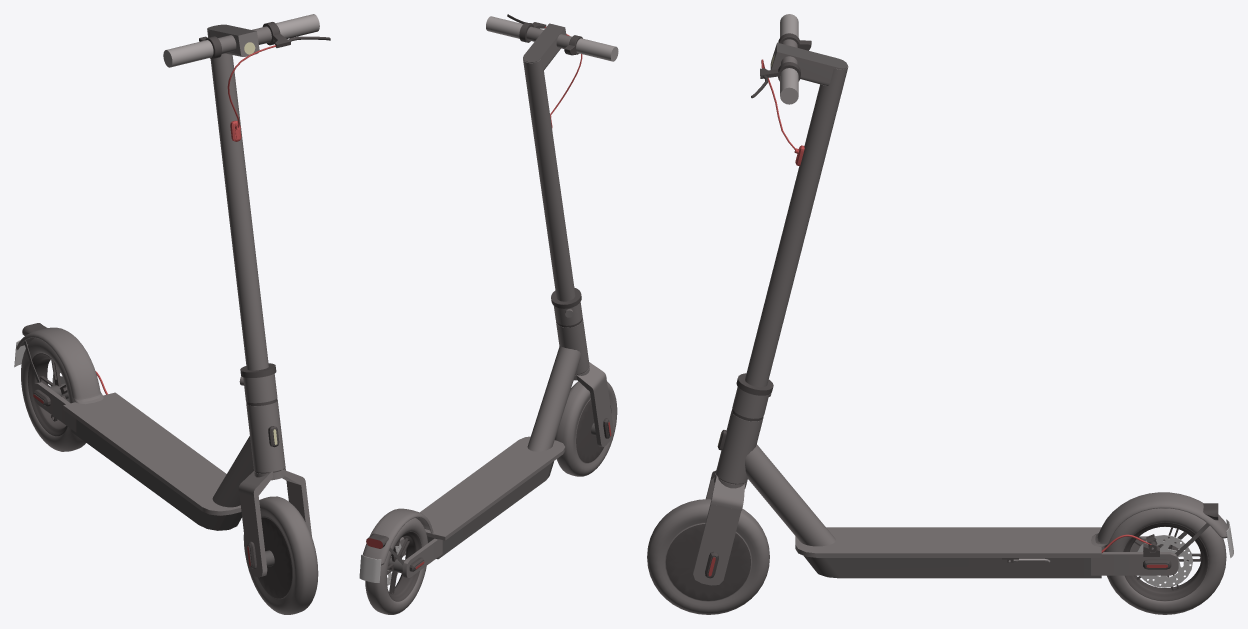
Rendered from Xiaomi.fbx.
3 renders of one model, left to right at view 1: azimuth 30°, elevation 25°; view 2: azimuth 150°, elevation 25°; view 3: azimuth 270°, elevation 25°, orthographic. The views are drawn at different scales.
Visible parts, largest first — view 1: HW_XYZ_Detalization_3; view 2: HW_XYZ_Detalization_3; view 3: HW_XYZ_Detalization_3.
Part boxes in pixels (x1,y1,x2,y2): HW_XYZ_Detalization_3: (14,14,330,614); HW_XYZ_Detalization_3: (359,14,618,614); HW_XYZ_Detalization_3: (647,14,1233,614).
Bounding box in the file's own units: 329 × 1178 × 1108.
